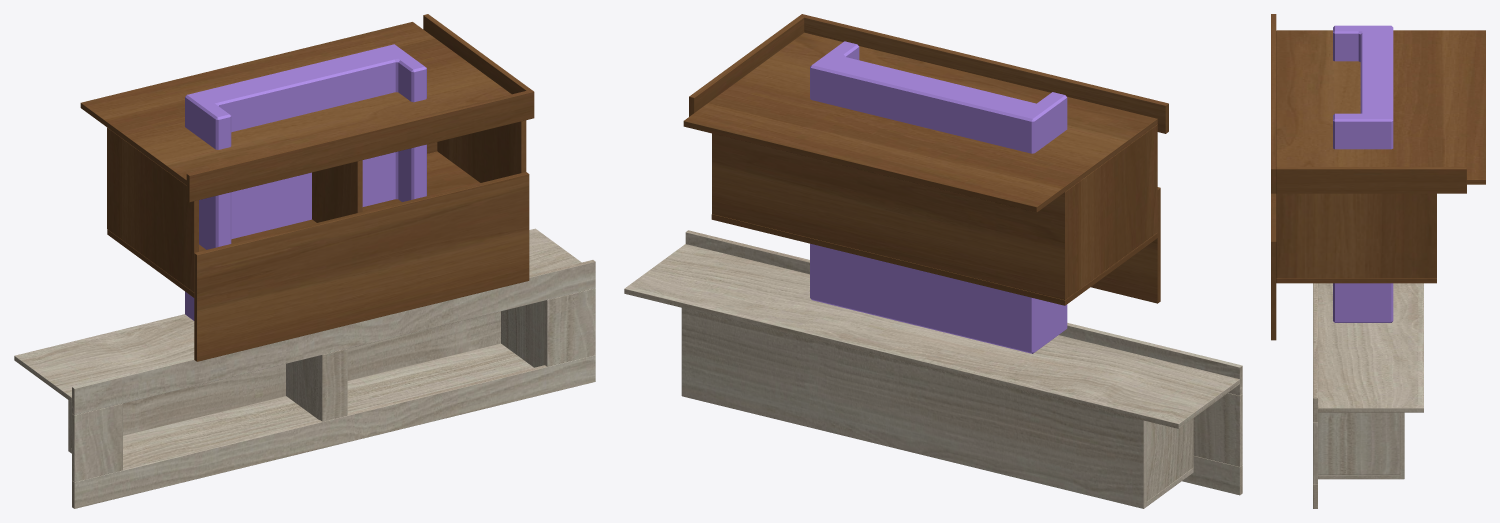
Rendered from descriptionsPlus.gltf.
3 views of the same model, side by side, from view 1: azimuth 30°, elevation 25°; view 2: azimuth 150°, elevation 25°; view 3: azimuth 270°, elevation 25° (orthographic). The views are drawn at different scales.
Visible parts, largest first — view 1: 00napred, 10nazad, 01feik; view 2: 00napred, 10nazad, 01feik; view 3: 00napred, 10nazad, 01feik.
Part boxes in pixels (x1,y1,x2,y2): 00napred: (80, 14, 534, 361); 10nazad: (14, 228, 595, 508); 01feik: (185, 44, 426, 320); 00napred: (683, 14, 1168, 305); 10nazad: (624, 230, 1242, 508); 01feik: (810, 41, 1067, 353); 00napred: (1271, 14, 1485, 340); 10nazad: (1313, 283, 1423, 508); 01feik: (1333, 25, 1393, 322).
Size of the model in its own units: 2.04 by 1.29 by 0.79.
Materials: 7 (4 with a texture image).
